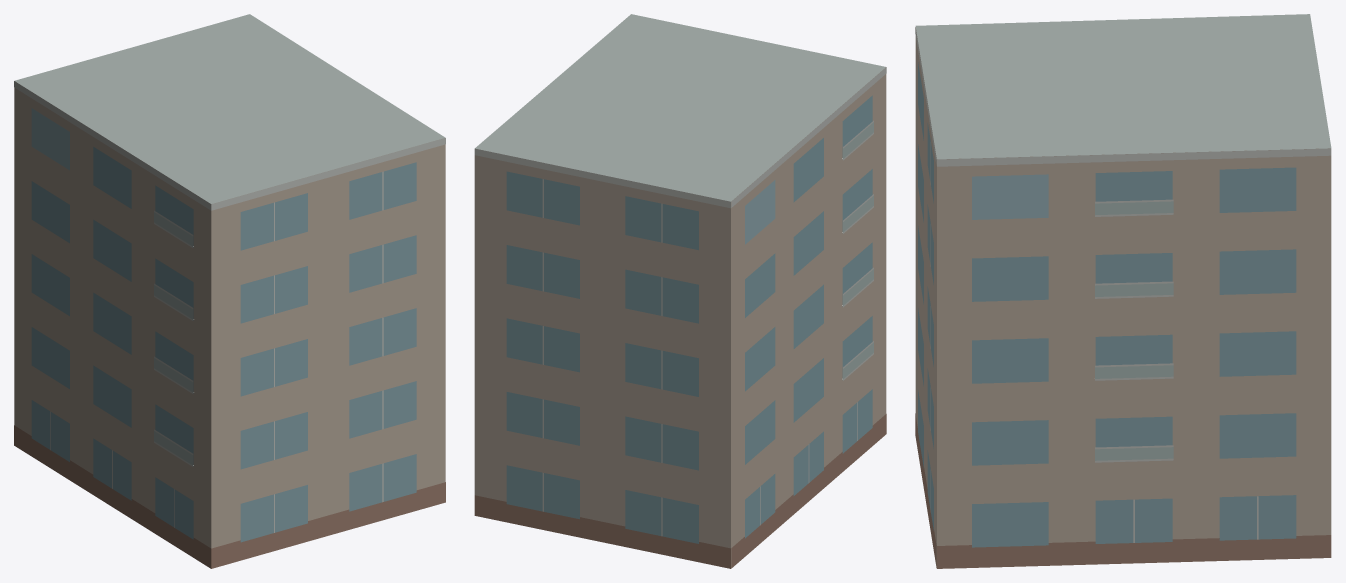
Rendered from survey-upis-32610633.glb.
3 views of the same model, side by side, from view 1: azimuth 30°, elevation 25°; view 2: azimuth 150°, elevation 25°; view 3: azimuth 270°, elevation 25° (orthographic). The views are drawn at different scales.
Visible parts, largest first — view 1: survey-upis-32610633.tmp; view 2: survey-upis-32610633.tmp; view 3: survey-upis-32610633.tmp.
Boxes of the visible parts, x1,y1,x2,y2 form: survey-upis-32610633.tmp: (14, 14, 445, 568); survey-upis-32610633.tmp: (474, 14, 886, 568); survey-upis-32610633.tmp: (915, 14, 1331, 568).
Size of the model in its own units: 10.29 by 13.5 by 12.44.
